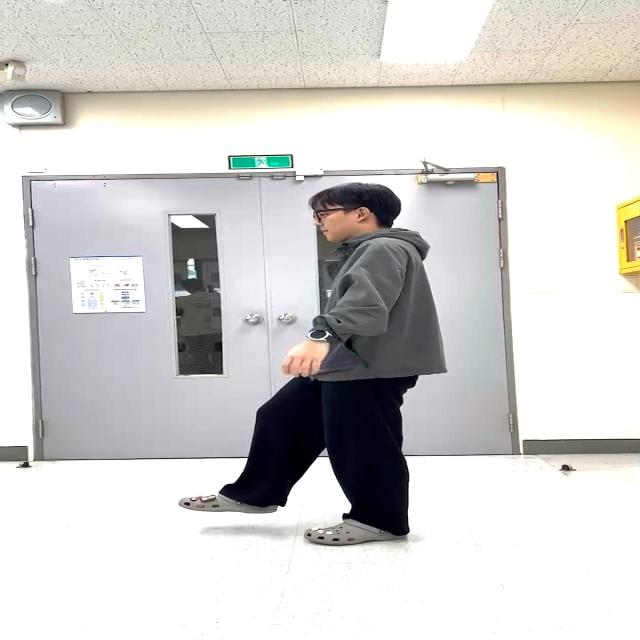leg: (178, 375, 324, 513), (303, 378, 412, 544)
